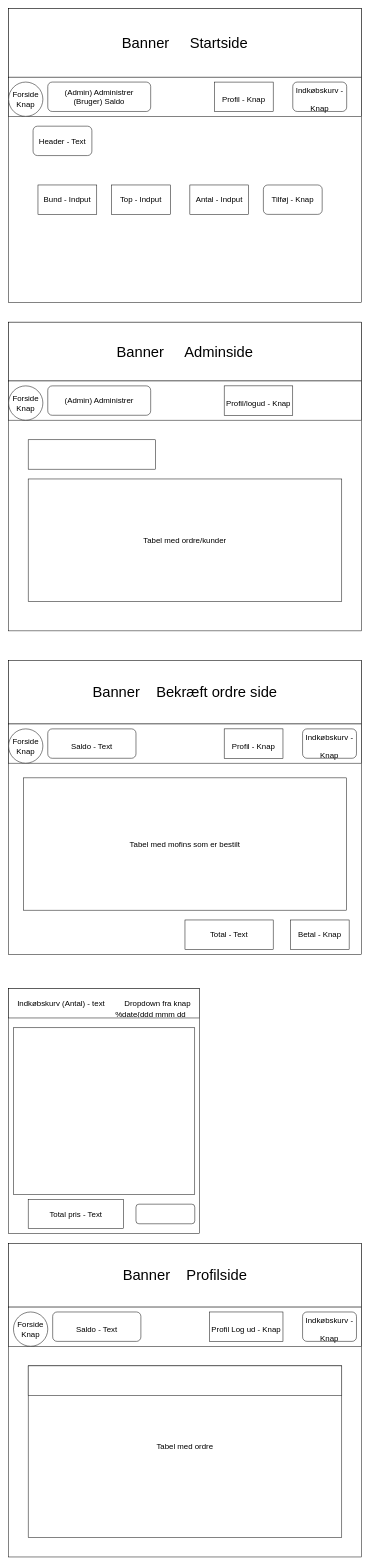
Image size: 370x1566. Some labels were removed from this diagram. The shapes that lost their labels are listed below. From the top down, each one's centre as x and y in pixels, then its label:
(92,454): Søg - Søgefelt/input
(104,1110): Tabel med ordre linjer (Bund) - (Top) - (pris) x (Antal) - (Antal) (+ / -)
(165,1214): Bekraft - Knap
(185,1380): Ordre (Muffins) - (Antal) ("Betalt" - Text)/(Betal - Knap)
